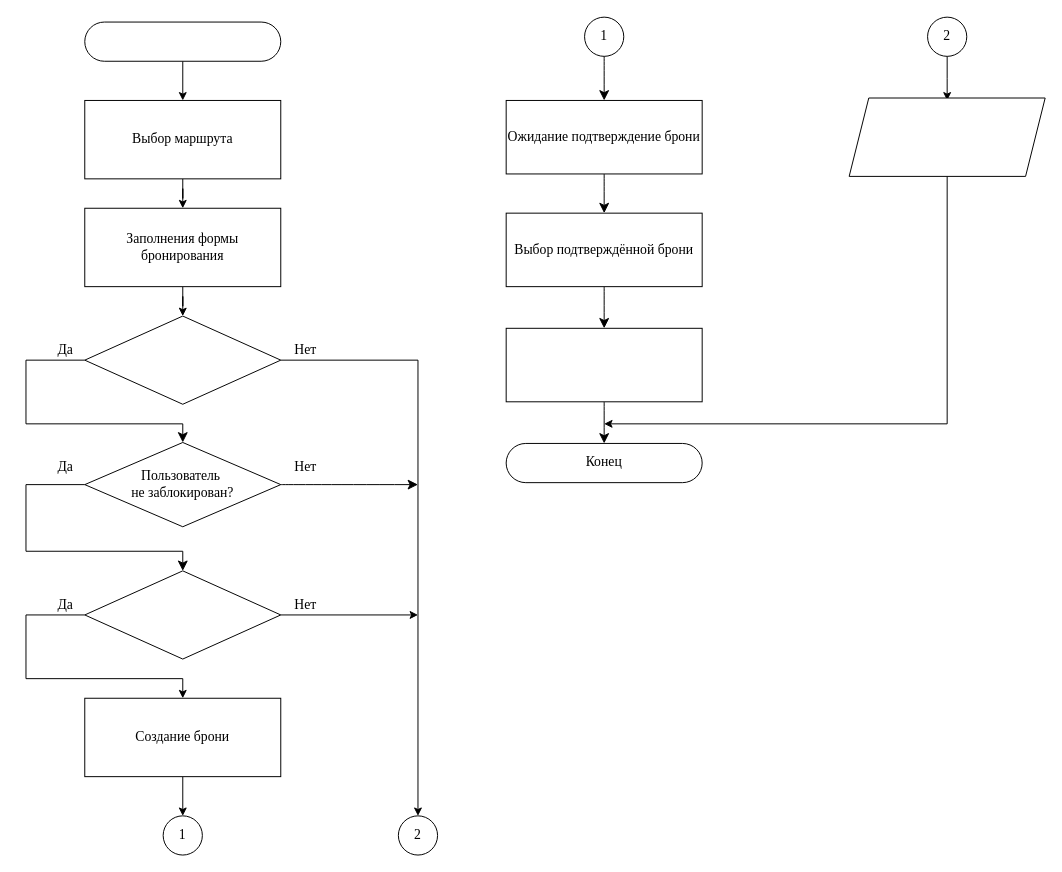
This 1062x872 diagram has some shape labels left out. The centre of each missing label's shape, as x and y in pixels:
"Данные введены коректно?" belongs at point (182, 614).
"Начало" belongs at point (182, 41).
"Оплата забронированного тура" belongs at point (603, 364).
"Отображение сообщения об ошибке" belongs at point (946, 136).
"Пользователь авторизован?" belongs at point (182, 359).
